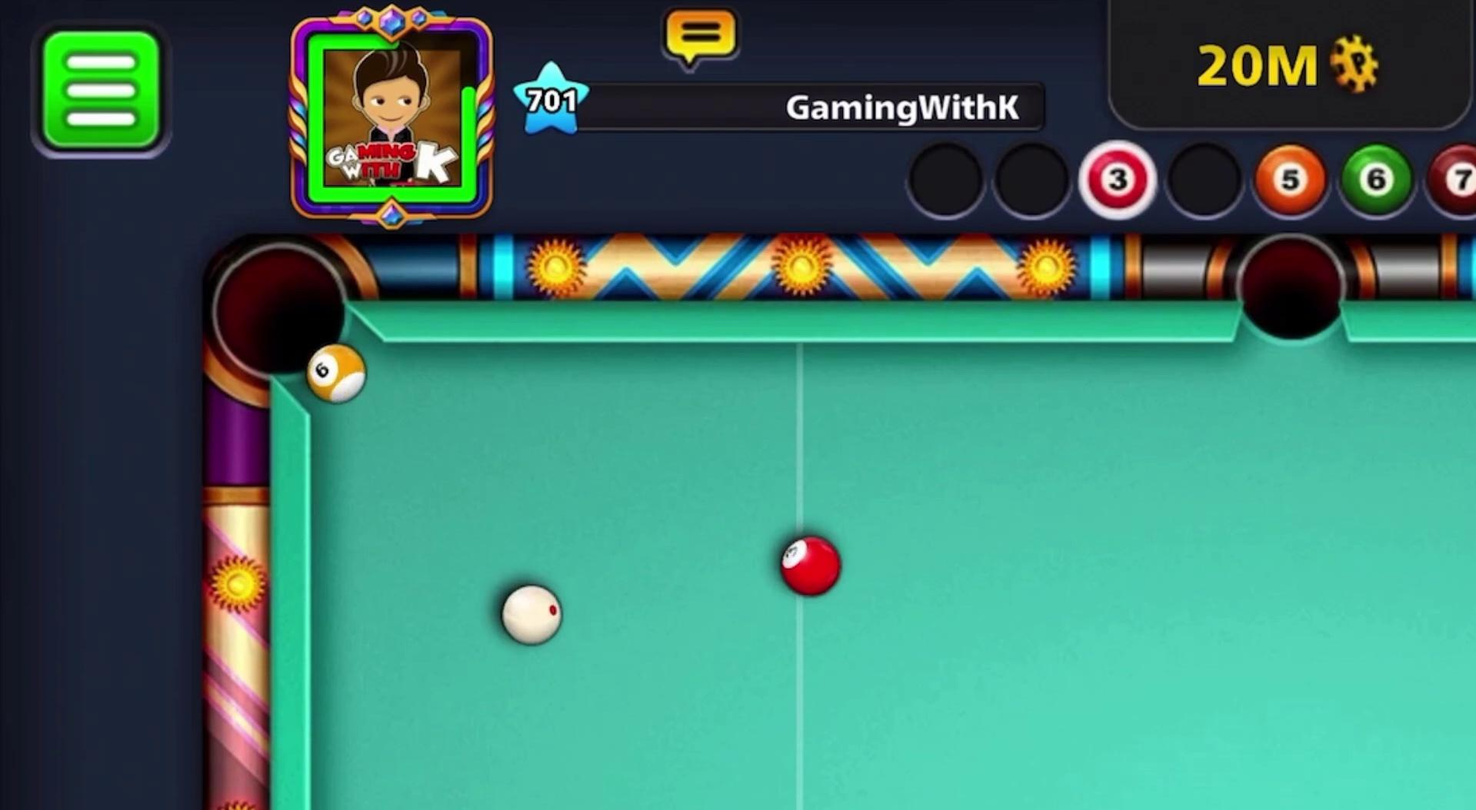Ball: (770, 529, 845, 605), (299, 335, 372, 410)
Hole: (200, 221, 379, 422), (1229, 218, 1351, 354)
White: (490, 576, 569, 650)
